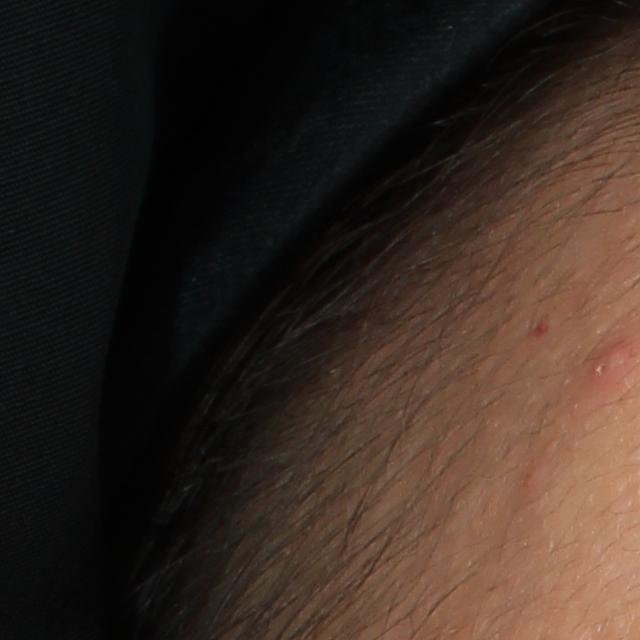papule: (584, 342, 633, 392)
